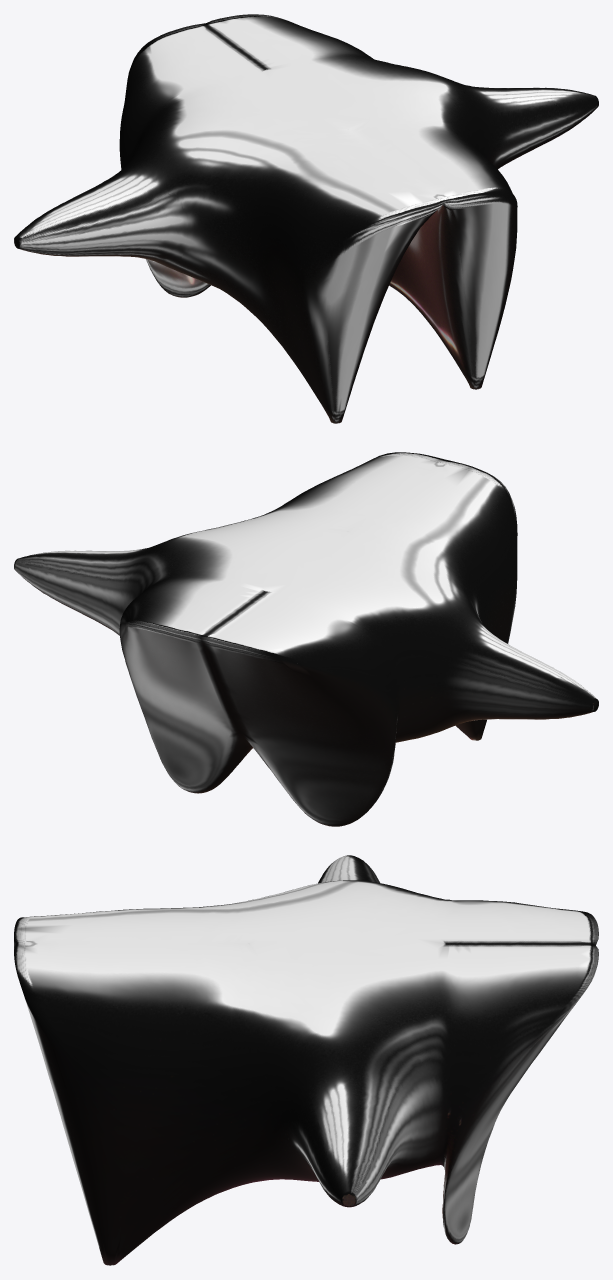
The model's file is spine2.glb.
3 views of the same model, one above another, from view 1: azimuth 30°, elevation 25°; view 2: azimuth 150°, elevation 25°; view 3: azimuth 270°, elevation 25° (orthographic). The views are drawn at different scales.
Visible parts, largest first — view 1: Cube.004; view 2: Cube.004; view 3: Cube.004.
Part boxes in pixels (x1,y1,x2,y2): Cube.004: (14, 14, 598, 423); Cube.004: (14, 452, 598, 826); Cube.004: (14, 855, 598, 1265).
Size of the model in its own units: 0.8484 by 0.325 by 0.6196.
Materials: 1 (1 with a texture image).
